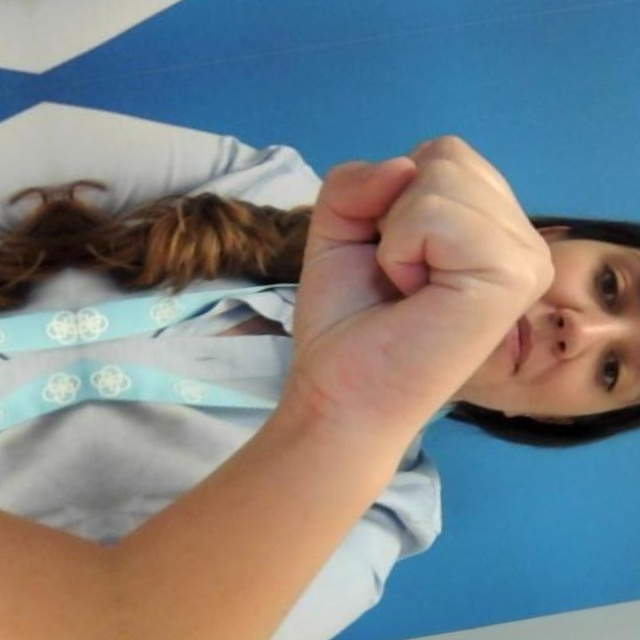Rock: (243, 110, 580, 450)
